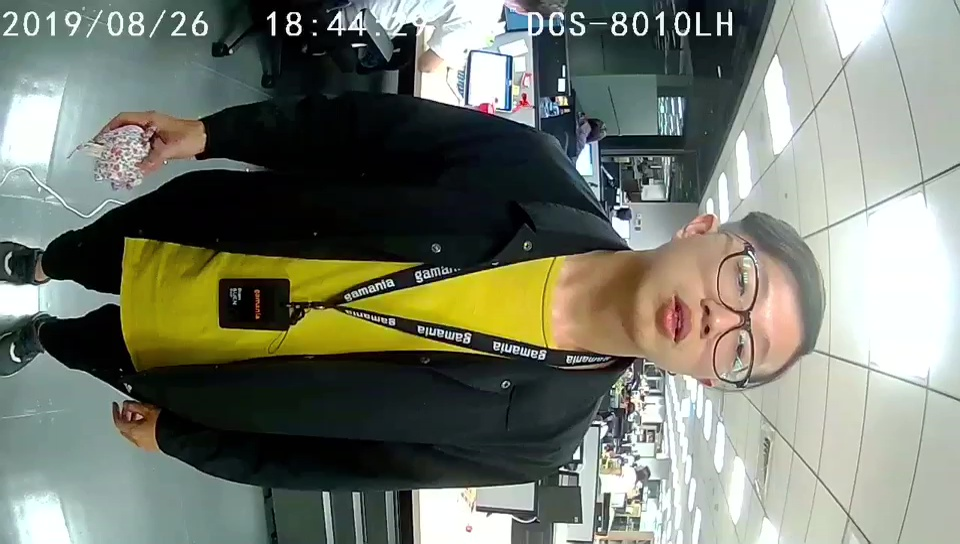pig: (93, 123, 154, 190)
